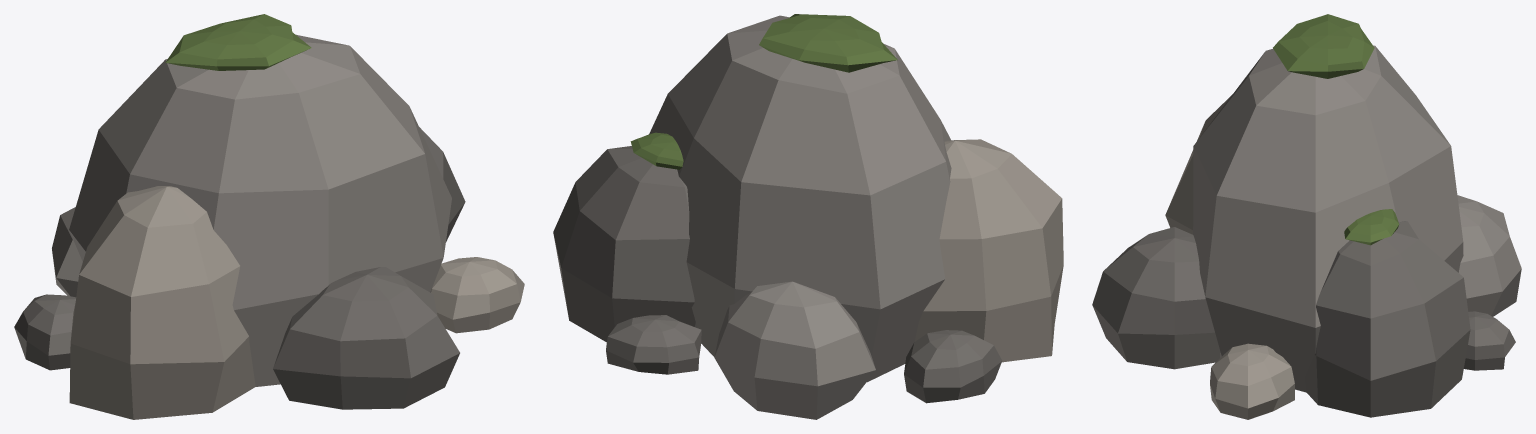
The model's file is stone_deposit_large.glb.
3 renders of one model, left to right at view 1: azimuth 30°, elevation 25°; view 2: azimuth 150°, elevation 25°; view 3: azimuth 270°, elevation 25°, orthographic. The views are drawn at different scales.
Visible parts, largest first — view 1: stone_deposit_large; view 2: stone_deposit_large; view 3: stone_deposit_large.
Boxes of the visible parts, box(x1,y1,x2,y2) form: stone_deposit_large: box(14, 14, 524, 419); stone_deposit_large: box(553, 14, 1063, 419); stone_deposit_large: box(1092, 14, 1521, 419).
Size of the model in its own units: 7.89 by 5.07 by 7.01.
